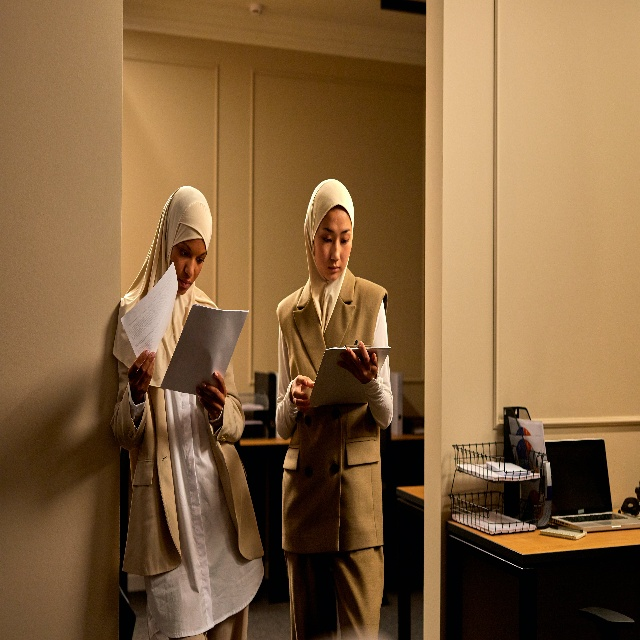Sin_guantes: (337, 340, 379, 383), (194, 371, 226, 421), (128, 348, 157, 392), (290, 373, 315, 411)
